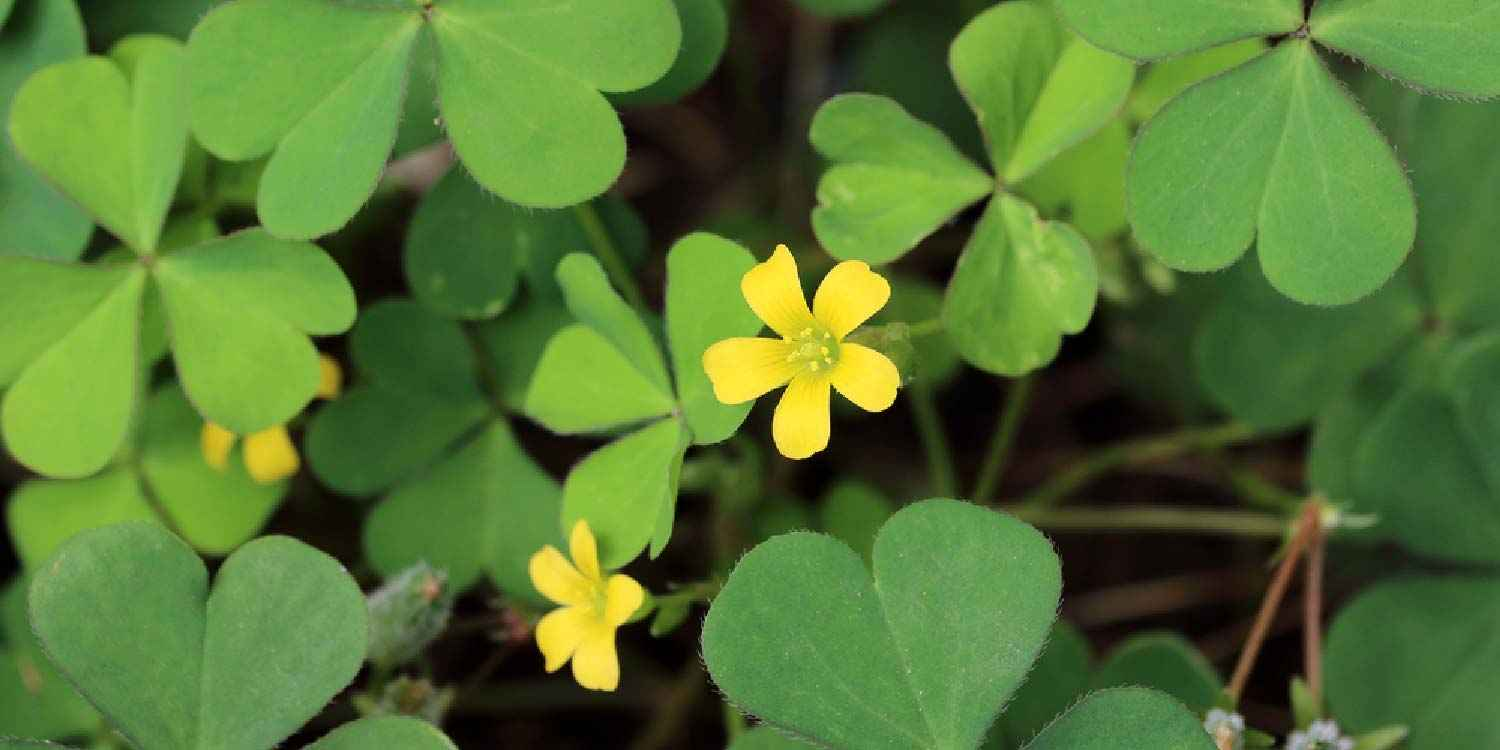oxalis: (830, 21, 1401, 332), (65, 19, 658, 246), (703, 494, 1094, 750)
